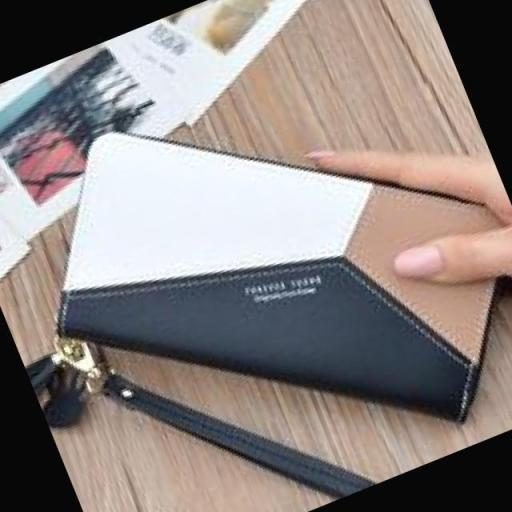bag: (53, 111, 505, 435)
